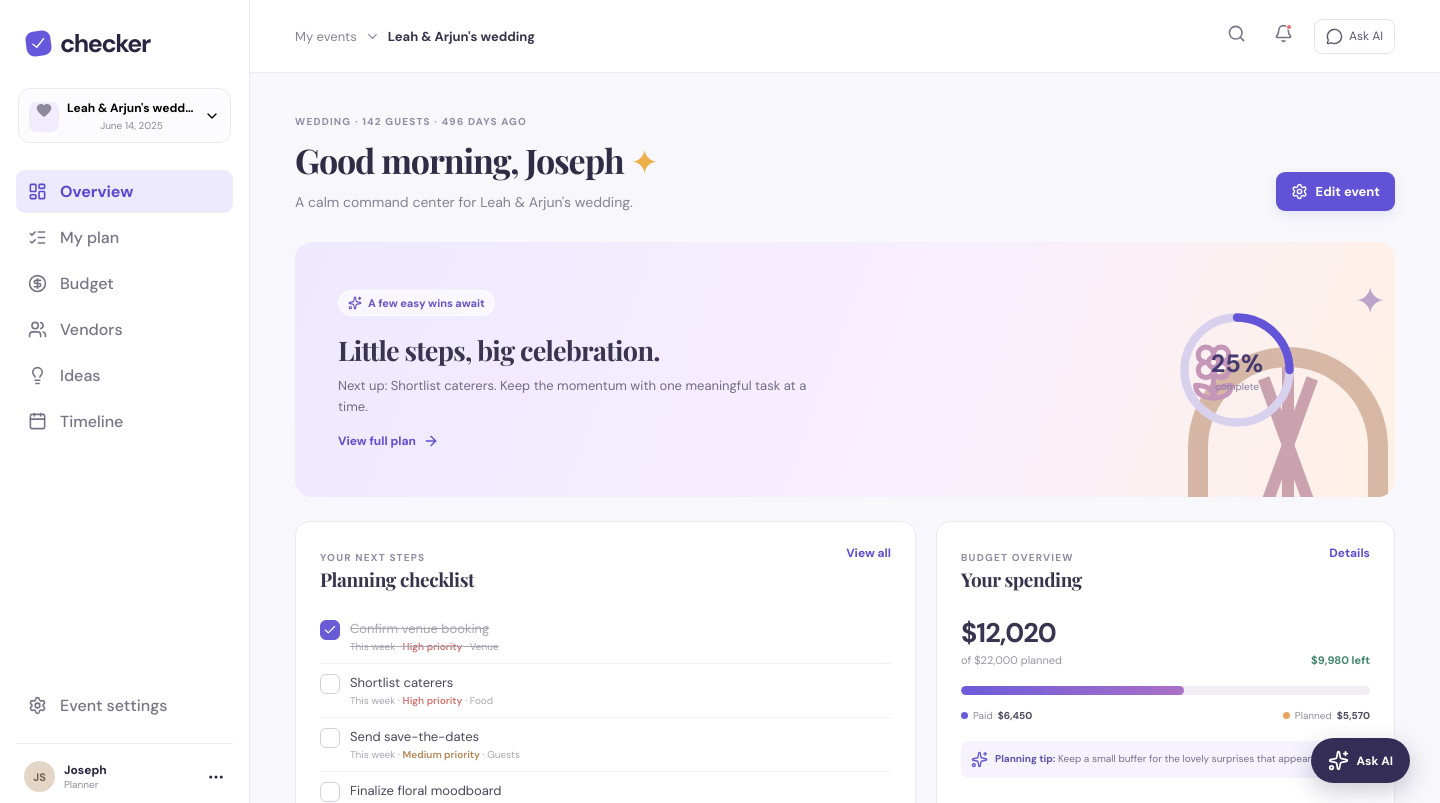
Test: Checker event planner – App integration › navigates to Vendors page
# Use the nav button by its unique id to avoid matching the search button
Click the button with id "nav-vendors".
click(124, 330)  # box [16,308,233,351]
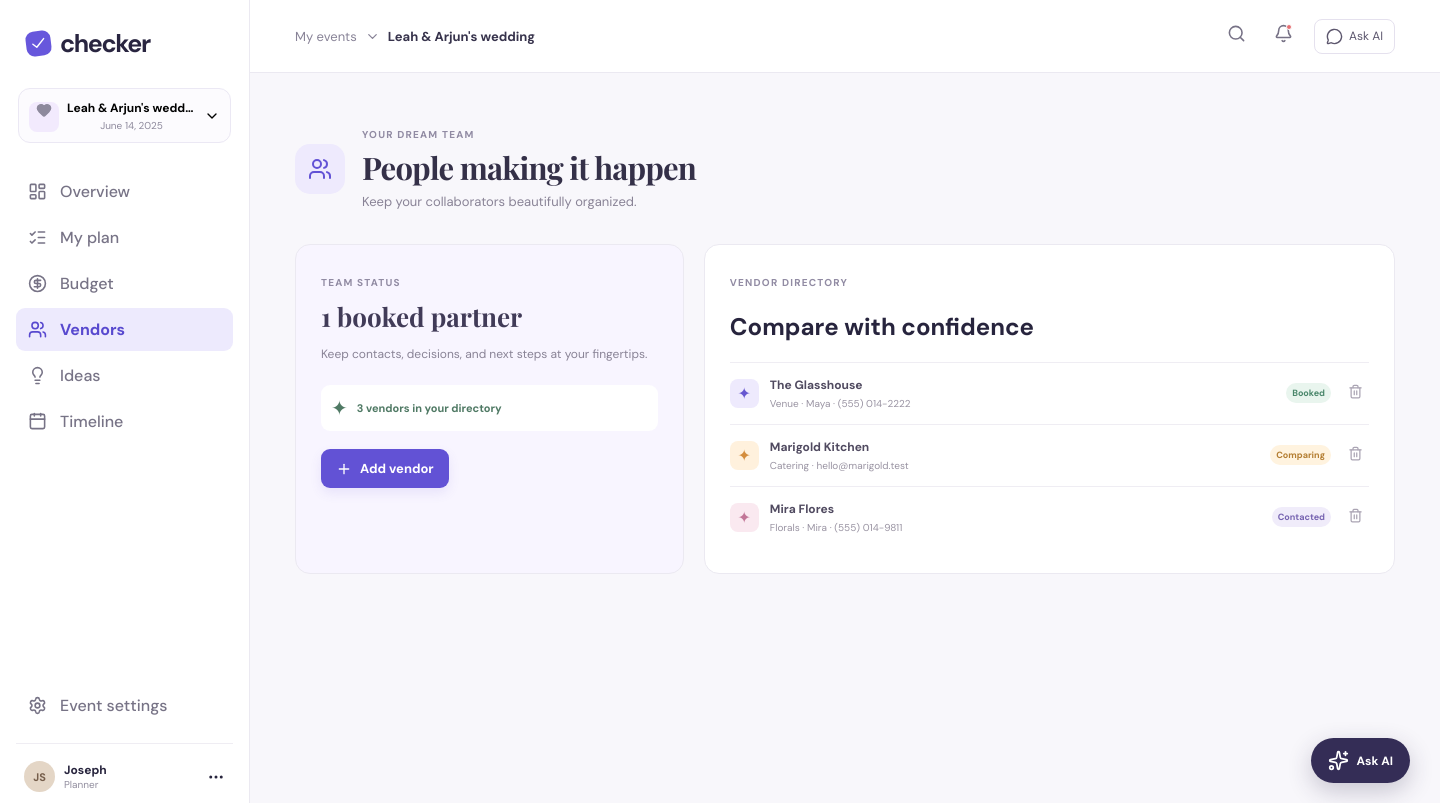
Check: the text "VENDOR DIRECTORY" is shown, box [730,276,848,289]
